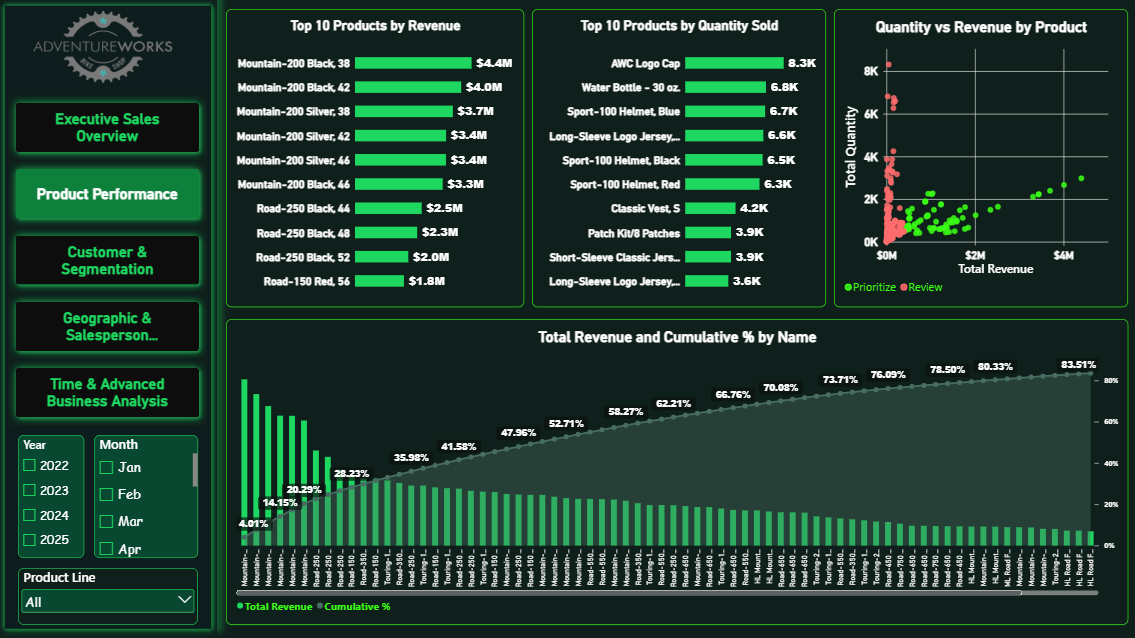

Layout of this report page (visuals, bound fields, positions):
{"tool":"powerbi","page":{"name":"Product Performance","canvas":[1920,1080],"ordinal":1},"visuals":[{"type":"shape","box":[0,0,368,1072],"z":0},{"type":"pageNavigator","box":[16,160,336,560],"z":1000},{"type":"image","box":[32,16,288,128],"z":2000},{"type":"slicer","fields":{"Values":["Calender.Year"]},"box":[32,736,112,208],"z":3000},{"type":"slicer","fields":{"Values":["Calender.Month"]},"box":[160,736,176,208],"z":4000},{"type":"clusteredBarChart","title":"Top 10 Products by Revenue","fields":{"Category":["Production Product.Name"],"Y":["CALC ( Executive Sales Overview).Total Revenue"]},"box":[383.7,15.2,503.7,503.7],"z":6000},{"type":"clusteredBarChart","title":"Top 10 Products by Quantity Sold","fields":{"Y":["CALC ( Executive Sales Overview).Total Quantity"],"Category":["Production Product.Name"]},"box":[900.8,15.2,496.9,503.7],"z":7000},{"type":"lineClusteredColumnComboChart","fields":{"Category":["Production Product.Name"],"Y2":["CALC(Product Performance).Cumulative %"],"Y":["CALC ( Executive Sales Overview).Total Revenue"]},"box":[383.7,539.2,1524.5,517.2],"z":8000},{"type":"scatterChart","title":"Quantity vs Revenue by Product","fields":{"X":["CALC ( Executive Sales Overview).Total Revenue"],"Category":["Production Product.Name"],"Y":["CALC ( Executive Sales Overview).Total Quantity"],"Series":["Production Product.Management Action Column"]},"box":[1411.3,15.2,496.9,503.7],"z":9000},{"type":"slicer","fields":{"Values":["Production Product.ProductLine"]},"box":[32,960,304,96],"z":9001}]}

Visuals, with their boxes on the page's 1920x1080 design canvas (x1, y1, x2, y2). These are canvas units, not pixel positions in the 1135x638 screenshot, which may show the page scaled, cropped or inside an application window:
shape: (x1=0, y1=0, x2=368, y2=1072)
pageNavigator: (x1=16, y1=160, x2=352, y2=720)
image: (x1=32, y1=16, x2=320, y2=144)
slicer - Calender.Year: (x1=32, y1=736, x2=144, y2=944)
slicer - Calender.Month: (x1=160, y1=736, x2=336, y2=944)
"Top 10 Products by Revenue" clusteredBarChart: (x1=384, y1=15, x2=887, y2=519)
"Top 10 Products by Quantity Sold" clusteredBarChart: (x1=901, y1=15, x2=1398, y2=519)
lineClusteredColumnComboChart - Production Product.Name x CALC(Product Performance).Cumulative %: (x1=384, y1=539, x2=1908, y2=1056)
"Quantity vs Revenue by Product" scatterChart: (x1=1411, y1=15, x2=1908, y2=519)
slicer - Production Product.ProductLine: (x1=32, y1=960, x2=336, y2=1056)
